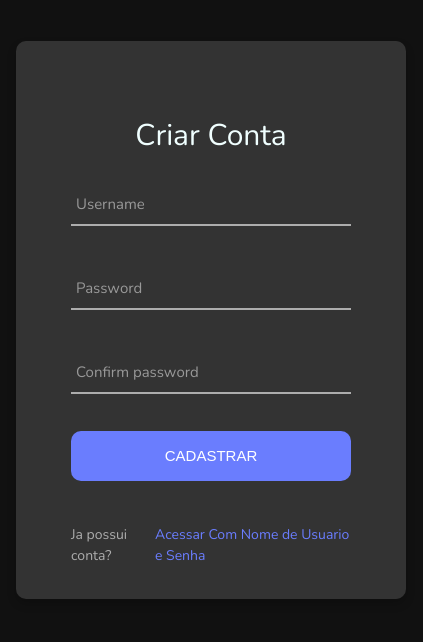
Test: Componente Register › Simulacão de conta criada com sucesso por meio de fetch › Cadastro realizado com sucesso retorna codigo 201 e imprime mensagem de sucesso
Type "victor" into the field with test id "usernameInput" at x=211, y=202, box [71,179,351,224]
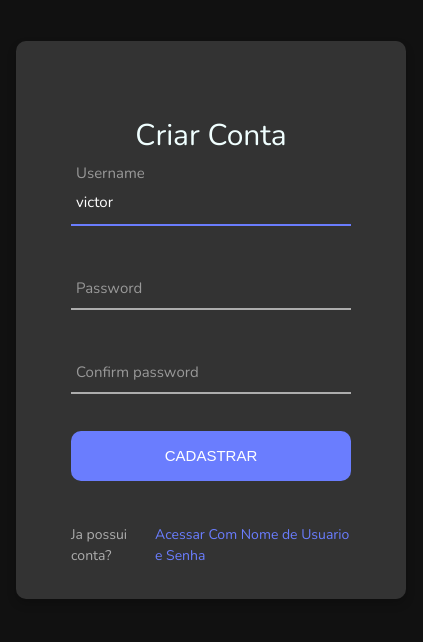
Type "12345" into the password field with test id "passwordInput" at x=211, y=286, box [71,263,351,308]
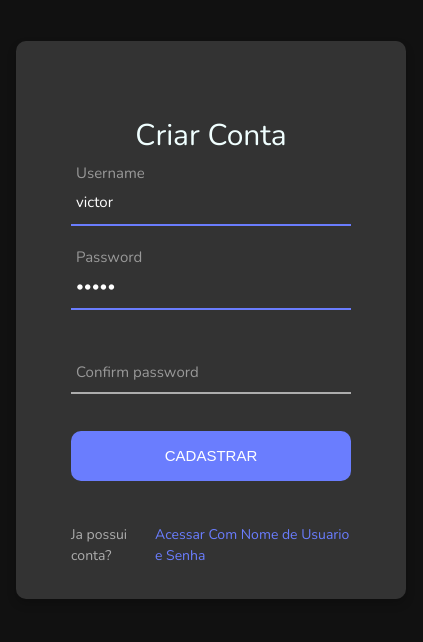
Type "12345" into the password field with test id "confirmpasswordInput" at x=211, y=370, box [71,347,351,392]
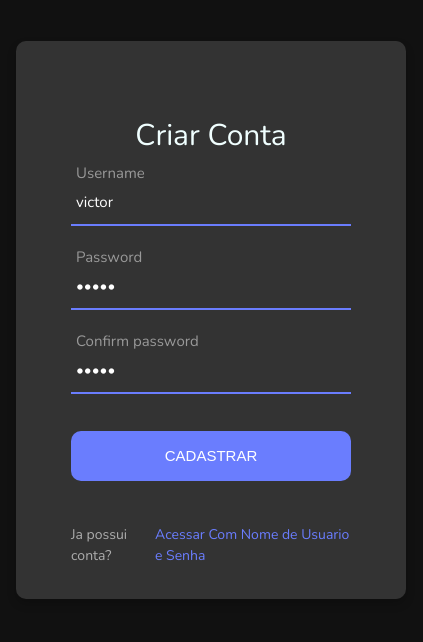
Click the button at x=211, y=456, box [71,431,351,481]
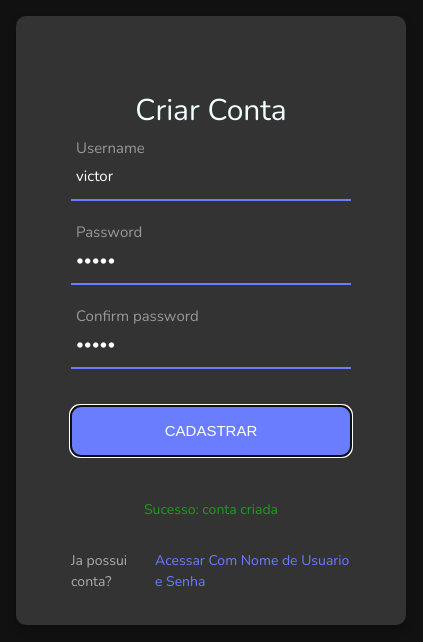
expect the text "conta criada" is shown: met, box [202,500,278,518]
